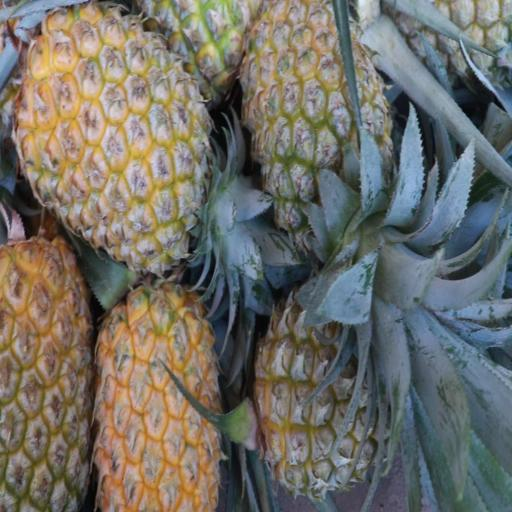------------------------------: (243, 1, 387, 239), (254, 278, 388, 490)
Pineapple - v8 v1: (25, 12, 205, 260), (94, 279, 218, 512), (0, 233, 94, 508)
